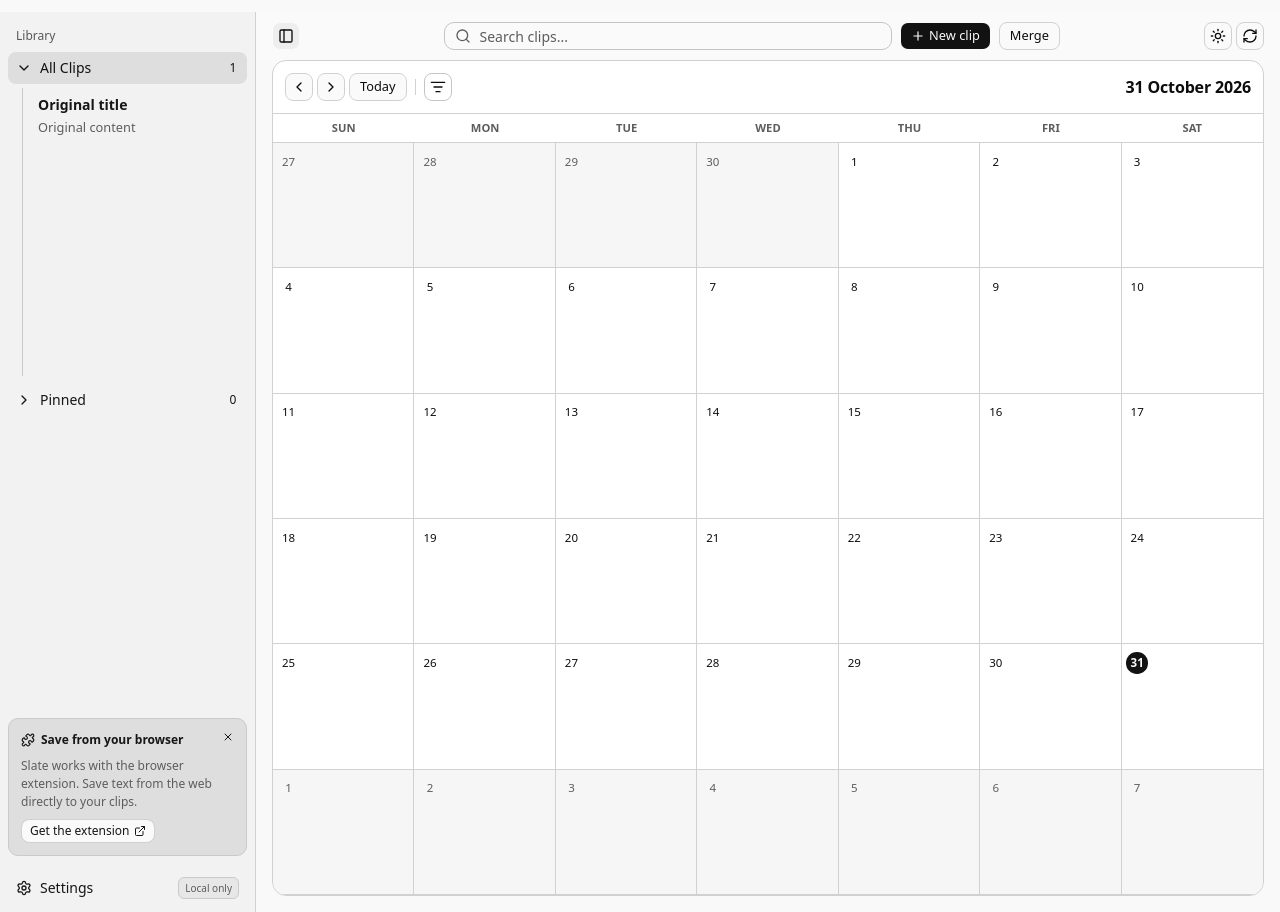
Scenario: clip title Enter uses title-only compare-and-set and releases the inline lease
The width and height of the screenshot is (1280, 912).
Click the button "Original title Original content": (138, 116) 29,88 -> 247,144
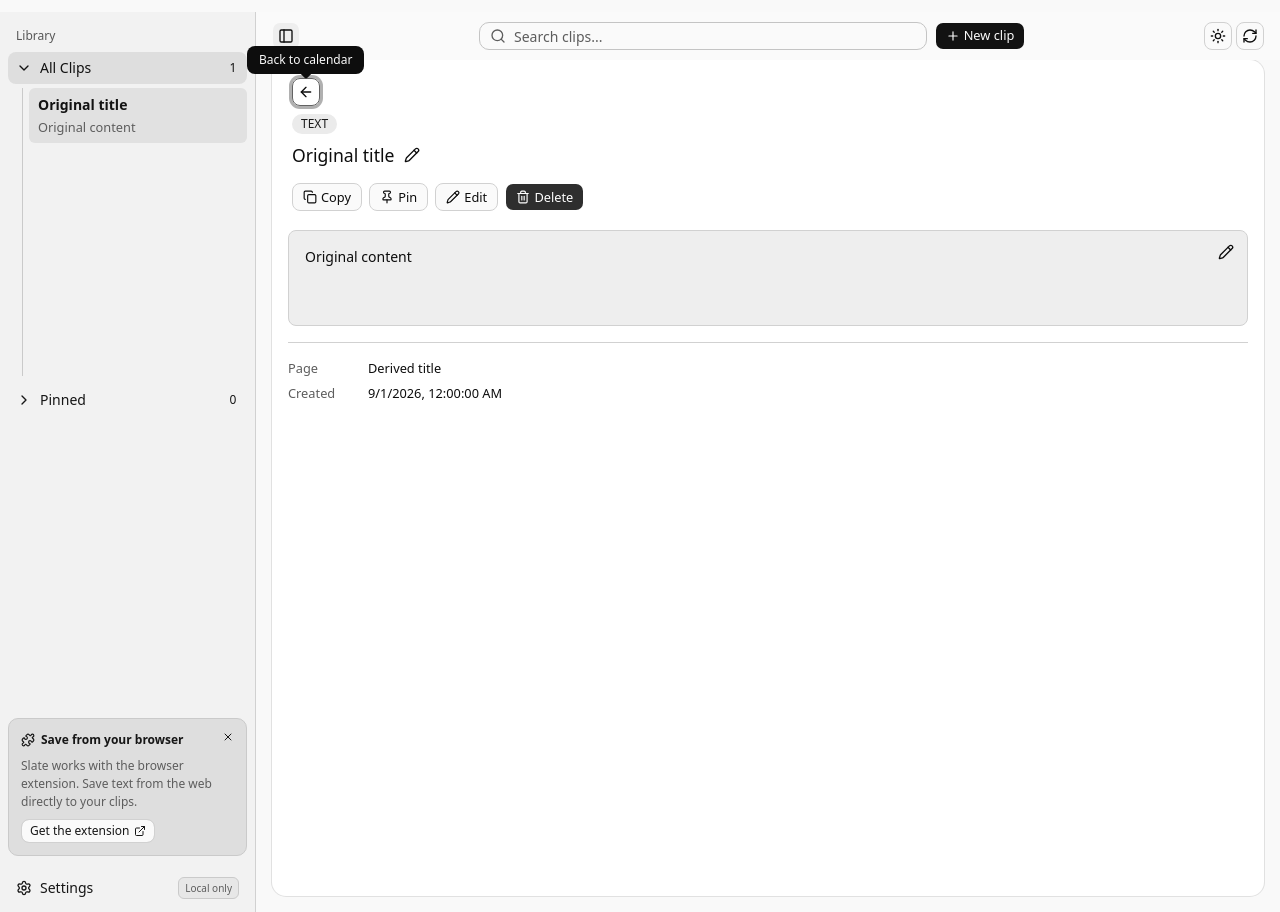
Check: the heading "Original title" is shown, box 292,143 -> 394,167
Click the button named "Edit clip title": (412, 155) 398,141 -> 426,169
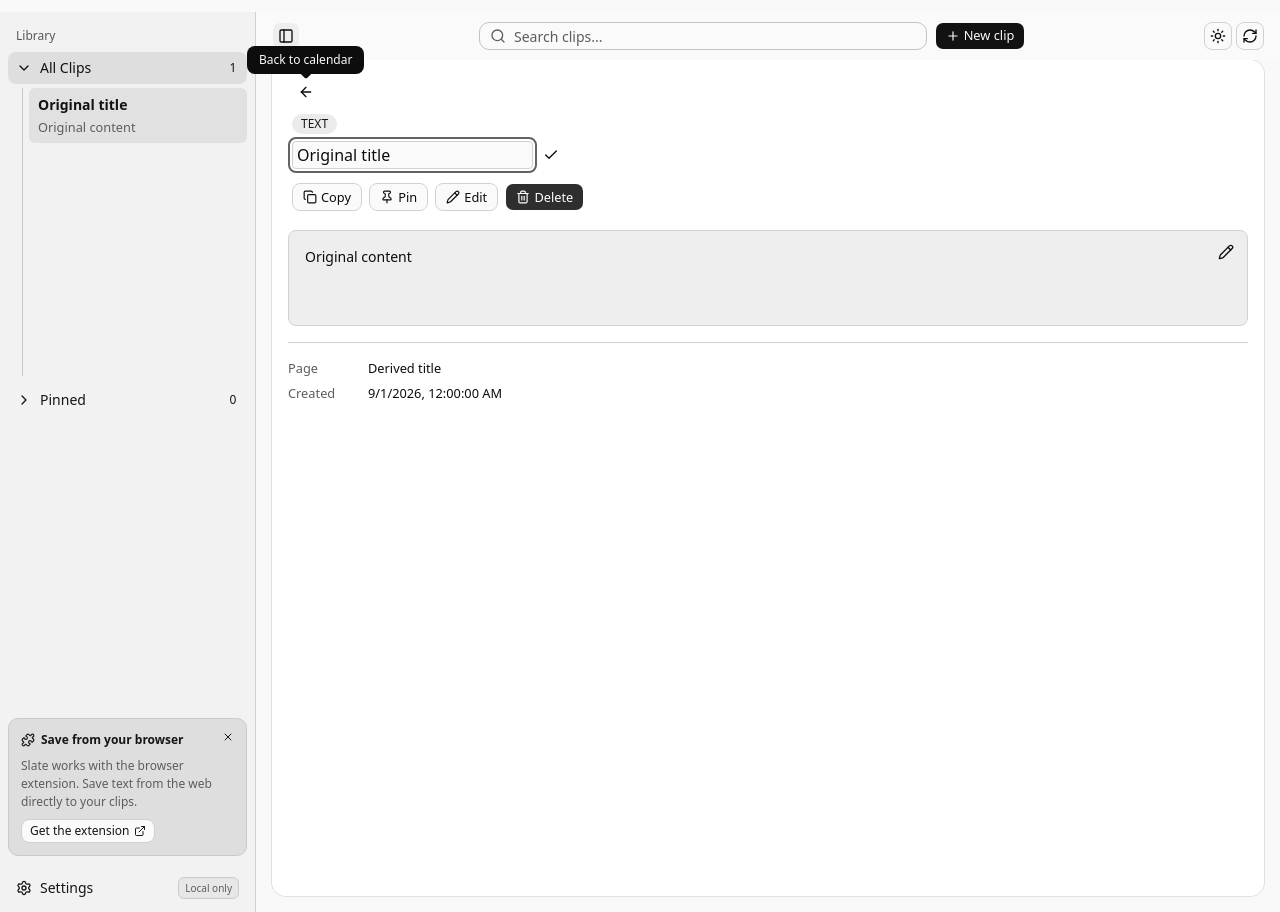
Replace the text in the field named "Clip title" with "  Renamed title  ": (412, 155) 292,141 -> 533,169
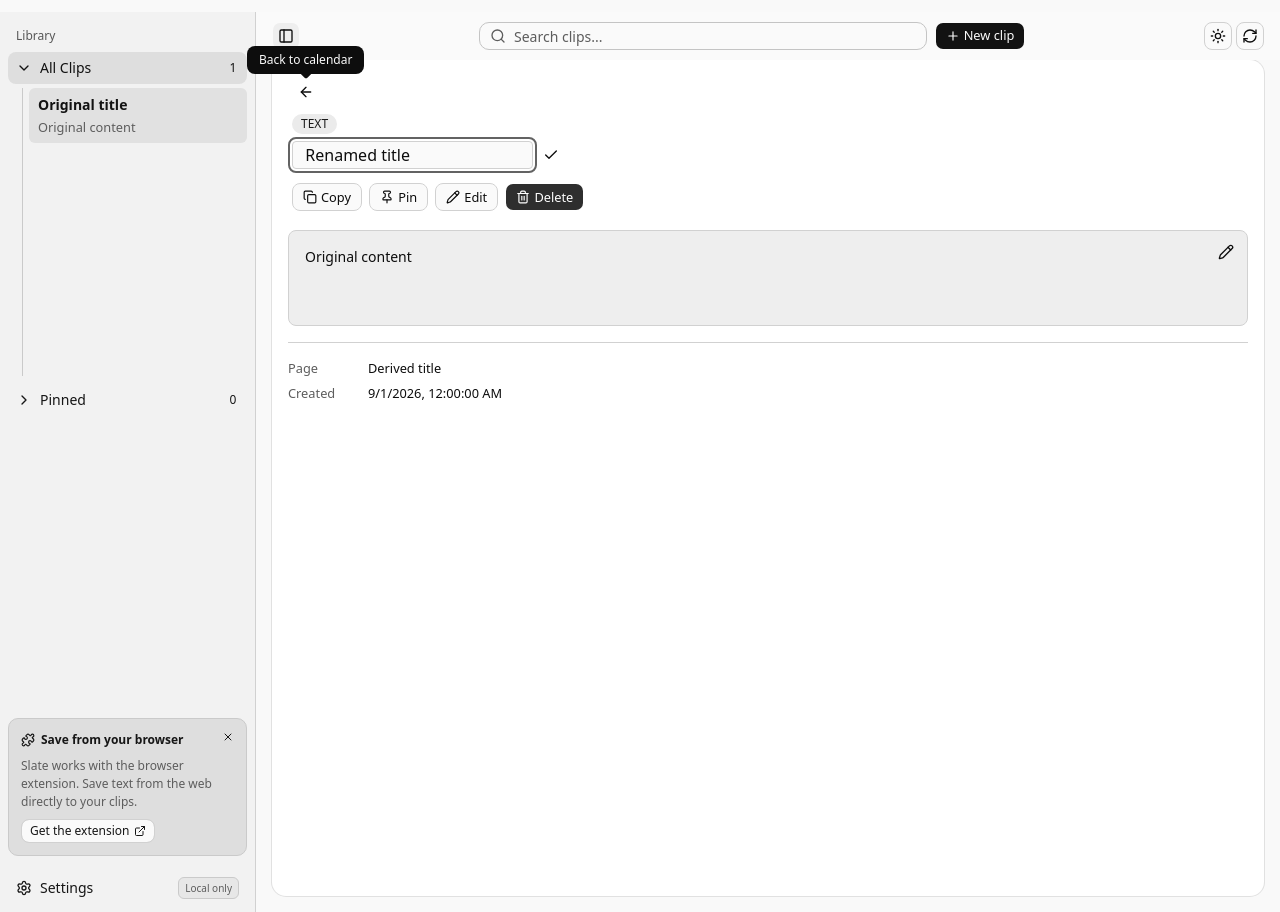
Press Enter in the field named "Clip title", box 292,141 -> 533,169
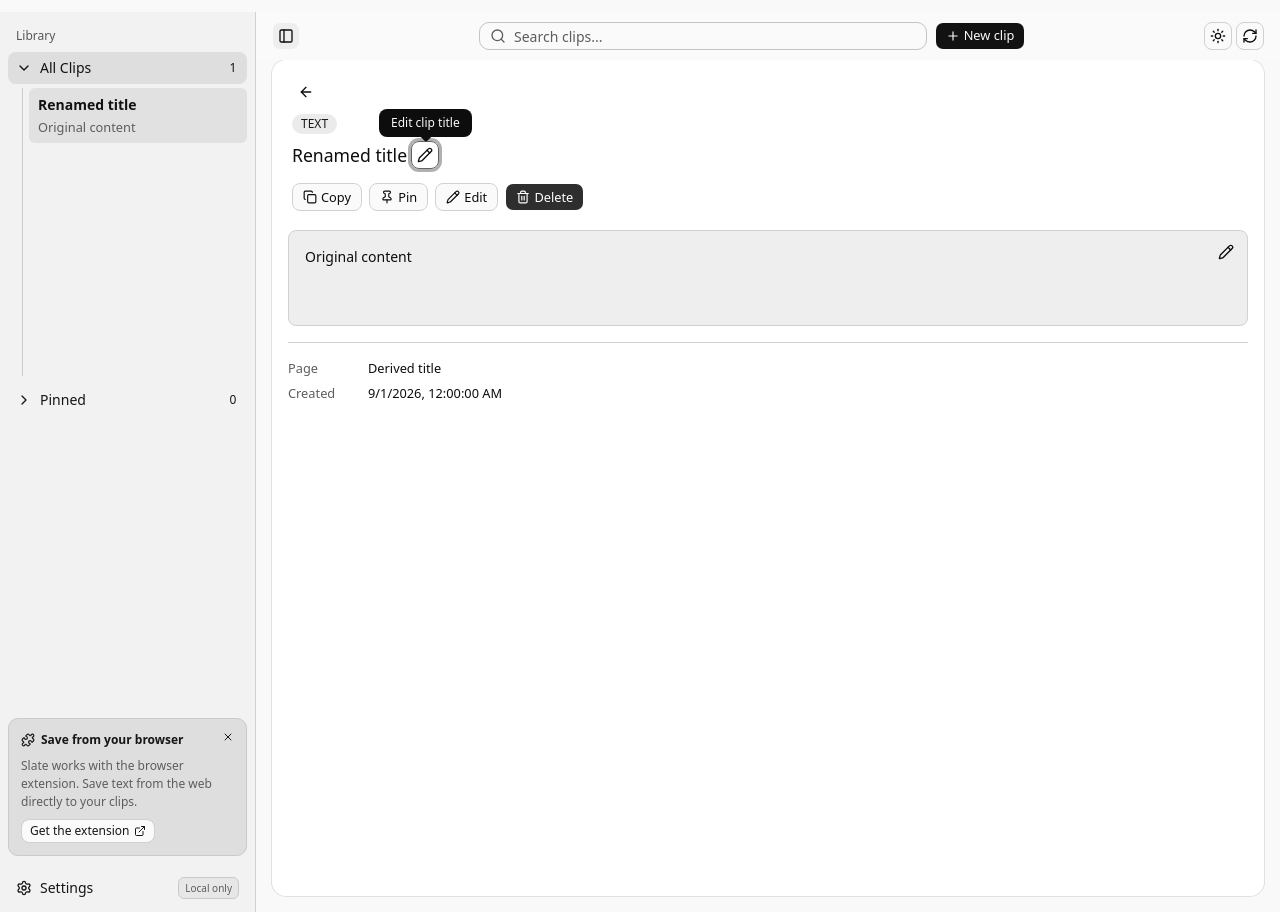
Check: the heading "Renamed title" is shown, box 292,143 -> 407,167
